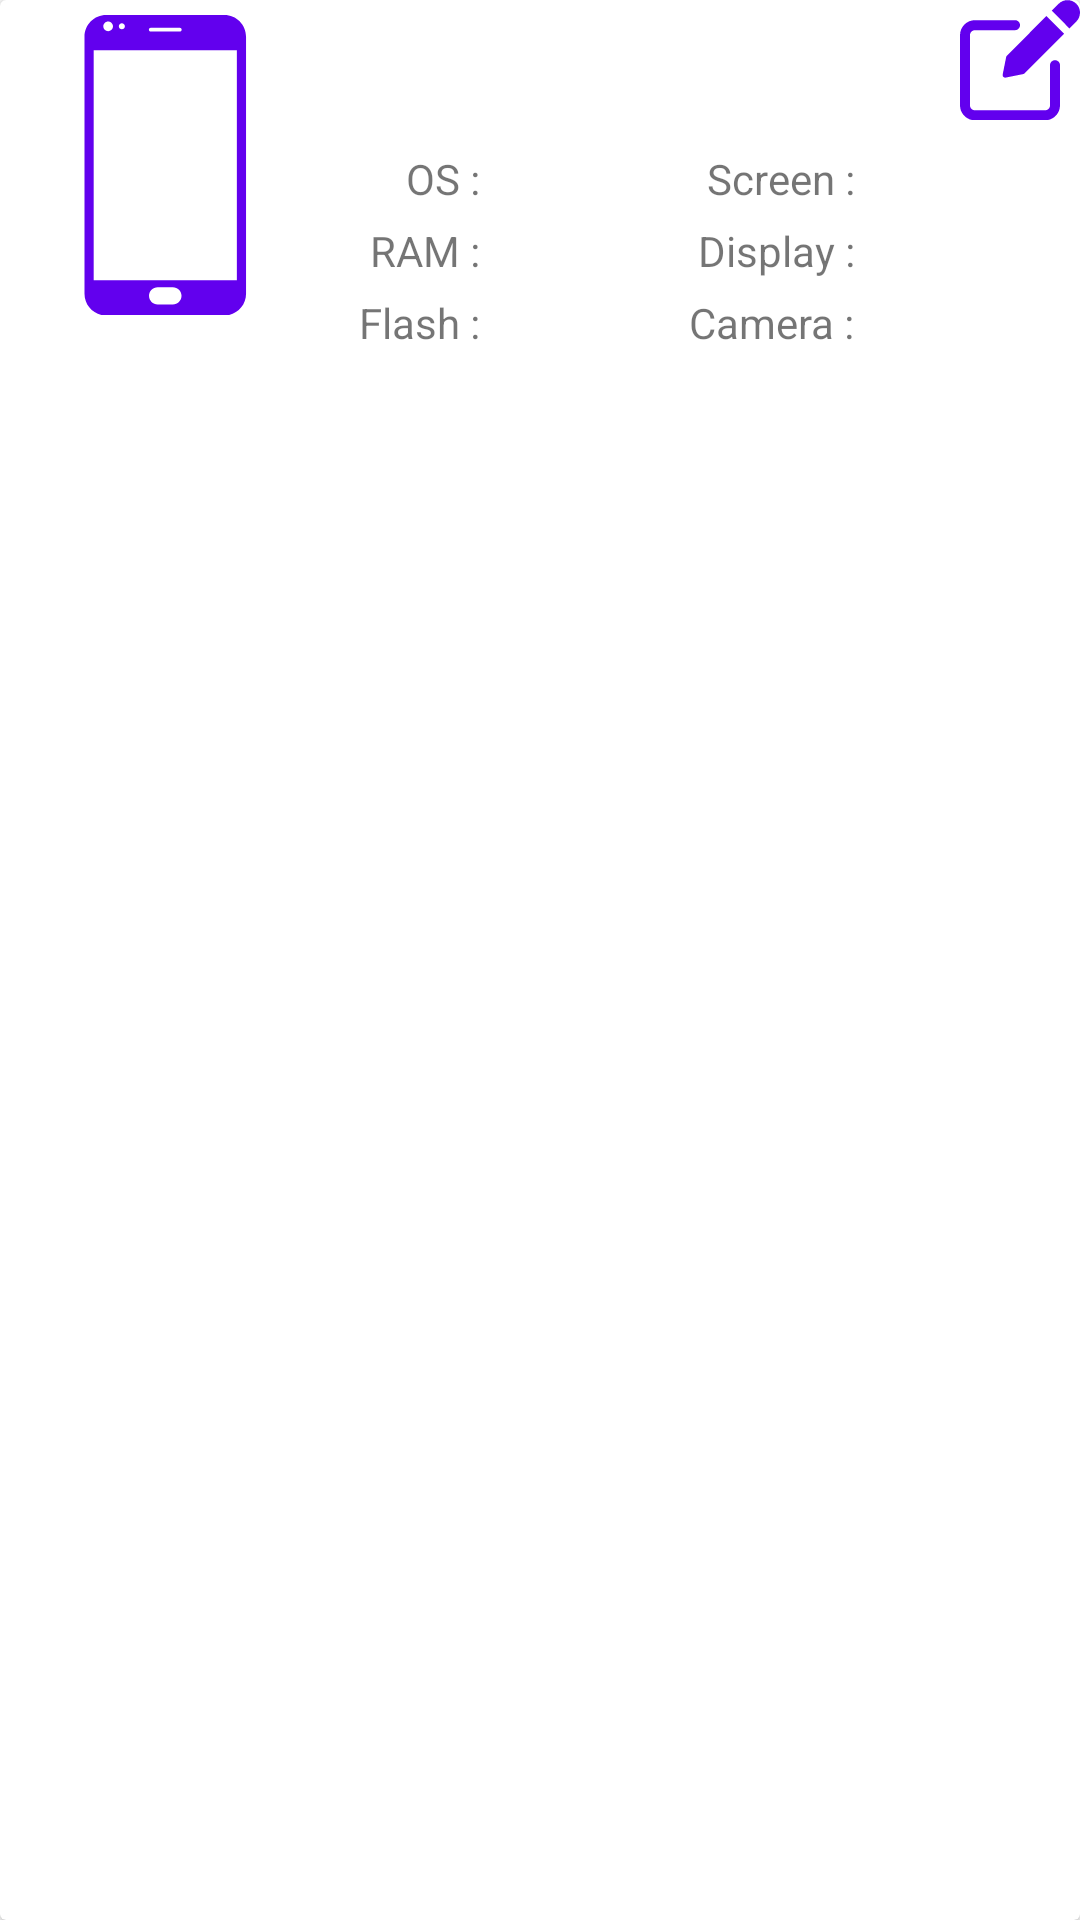

Screen size 1080 × 1920. Icon name, then its center in pixels as point (x, y):
edit: point (1020, 60)
smartphone: point (165, 165)
